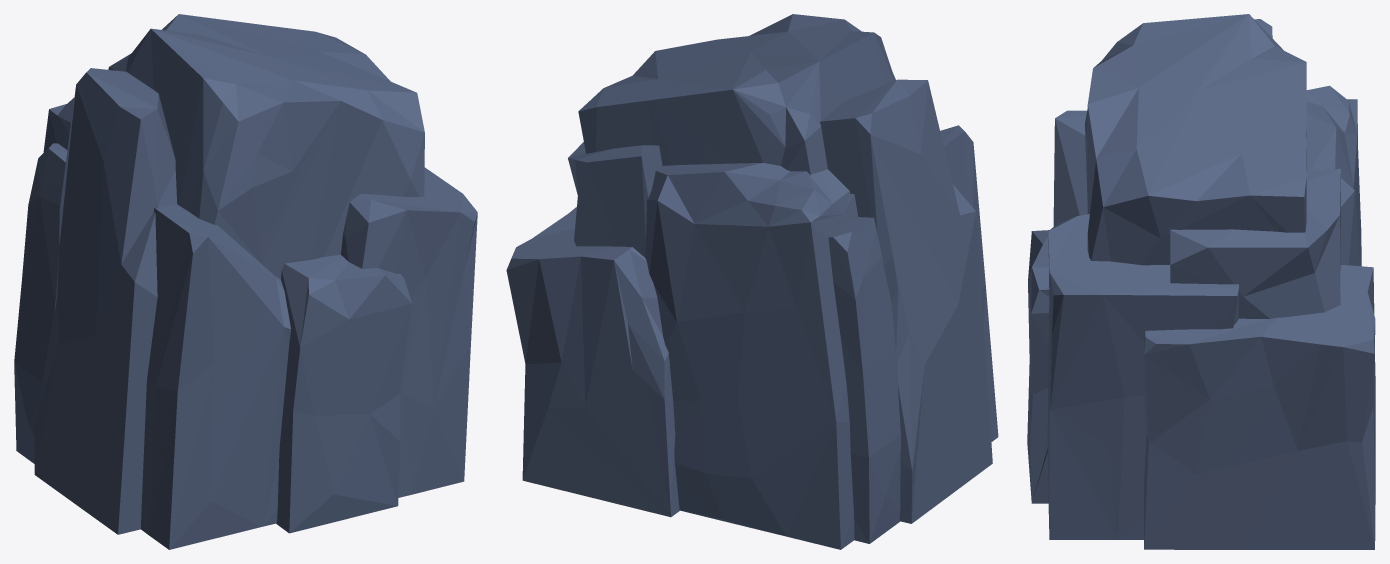
The model's file is BigRock03.fbx.
3 views of the same model, side by side, from view 1: azimuth 30°, elevation 25°; view 2: azimuth 150°, elevation 25°; view 3: azimuth 270°, elevation 25° (orthographic).
Visible parts, largest first — view 1: BigRock_03; view 2: BigRock_03; view 3: BigRock_03.
Boxes of the visible parts, x1,y1,x2,y2 form: BigRock_03: (14, 14, 477, 549); BigRock_03: (506, 14, 998, 549); BigRock_03: (1027, 14, 1375, 549).
Bounding box in the file's own units: 547 × 624 × 465.
